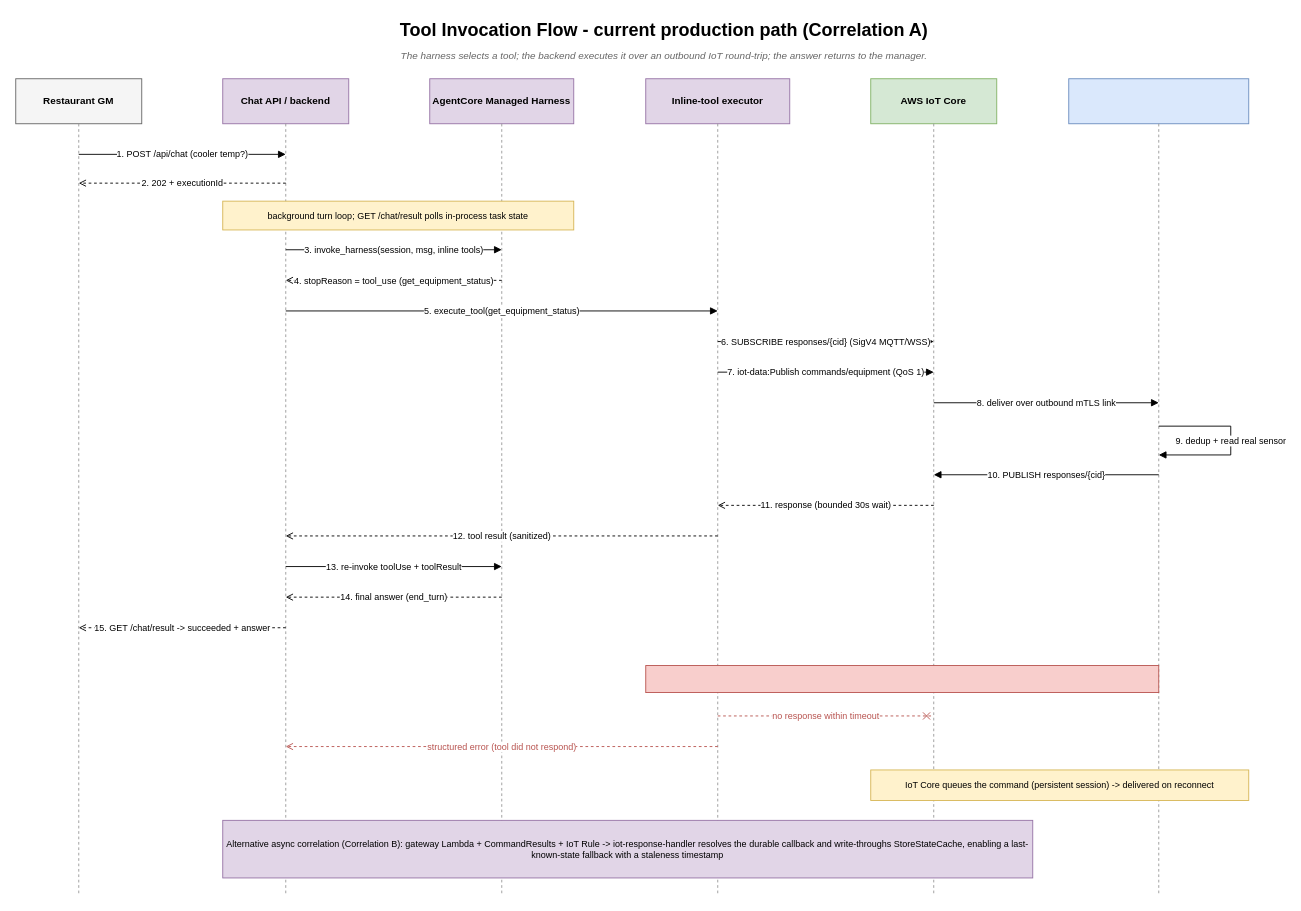
This 1301x911 diagram has some shape labels left out. Each missing label, with the box of its shape:
Store gateway + Equipment MCP: (1068, 78, 1249, 124)
Timeout / offline branch: (645, 665, 1159, 693)
